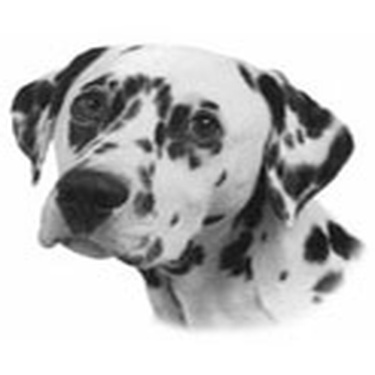dog: (1, 35, 364, 347)
